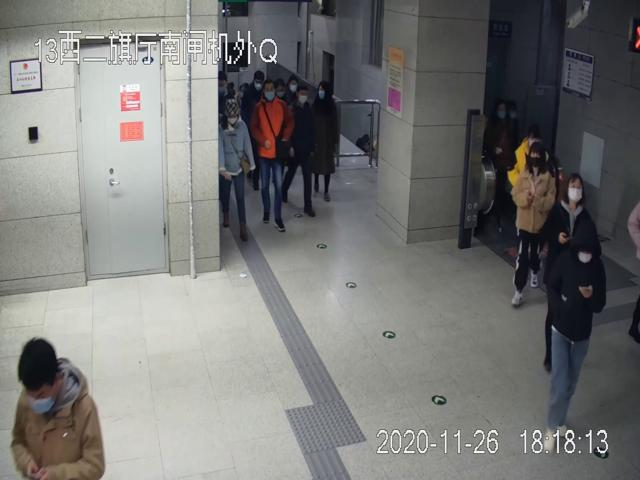person: (545, 222, 606, 459), (12, 335, 104, 480), (546, 174, 599, 369), (510, 140, 556, 299), (252, 80, 295, 234), (218, 94, 257, 244)
